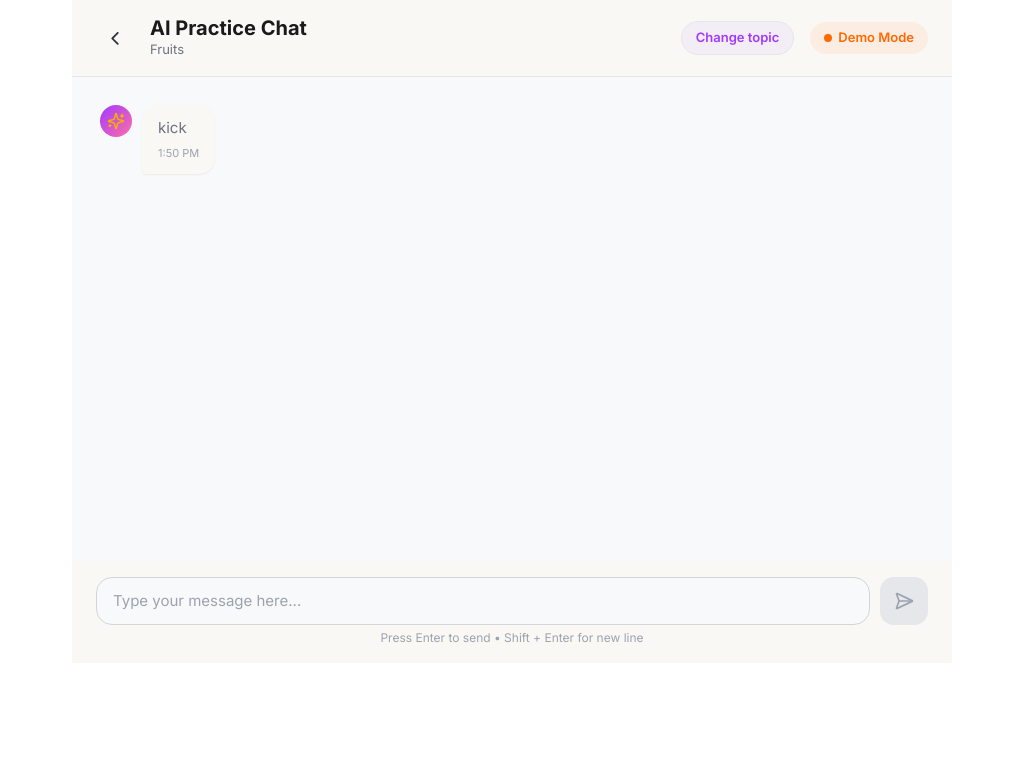
AiChatPage › shows error when the backend fails on a user send
Check: the text "kick" is shown, box [158, 118, 187, 136]
Type "hi" into the text box labelled "message" at (483, 601), box [96, 576, 870, 625]
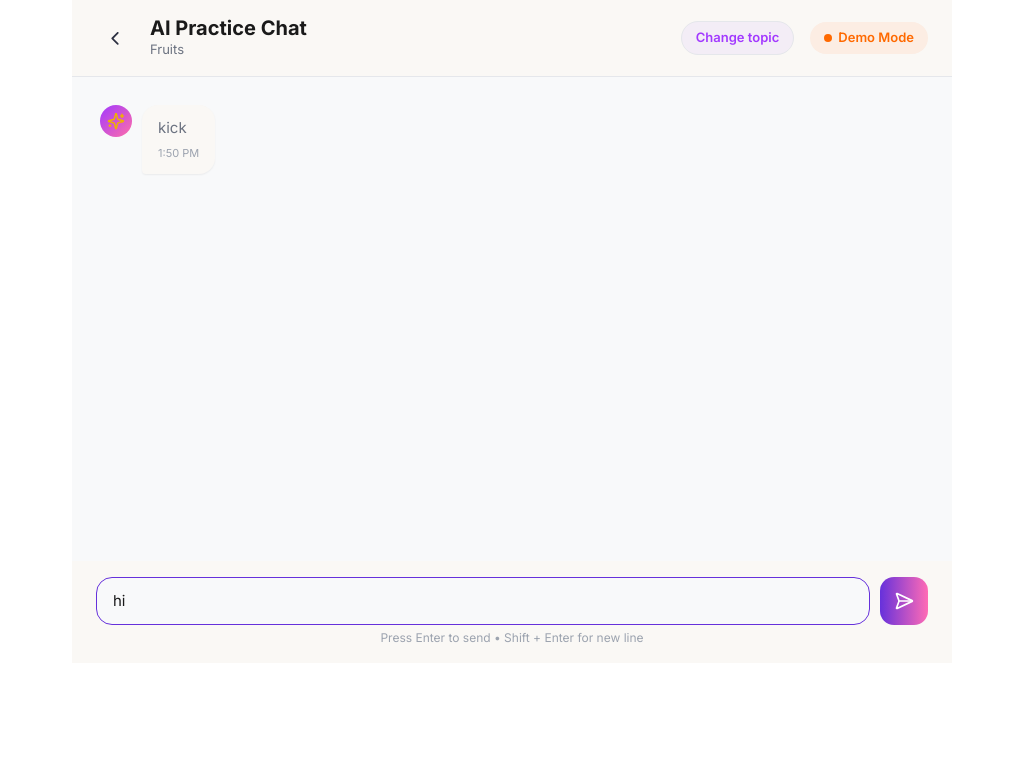
Click the button named "Send message" at (904, 601), box [880, 577, 928, 625]
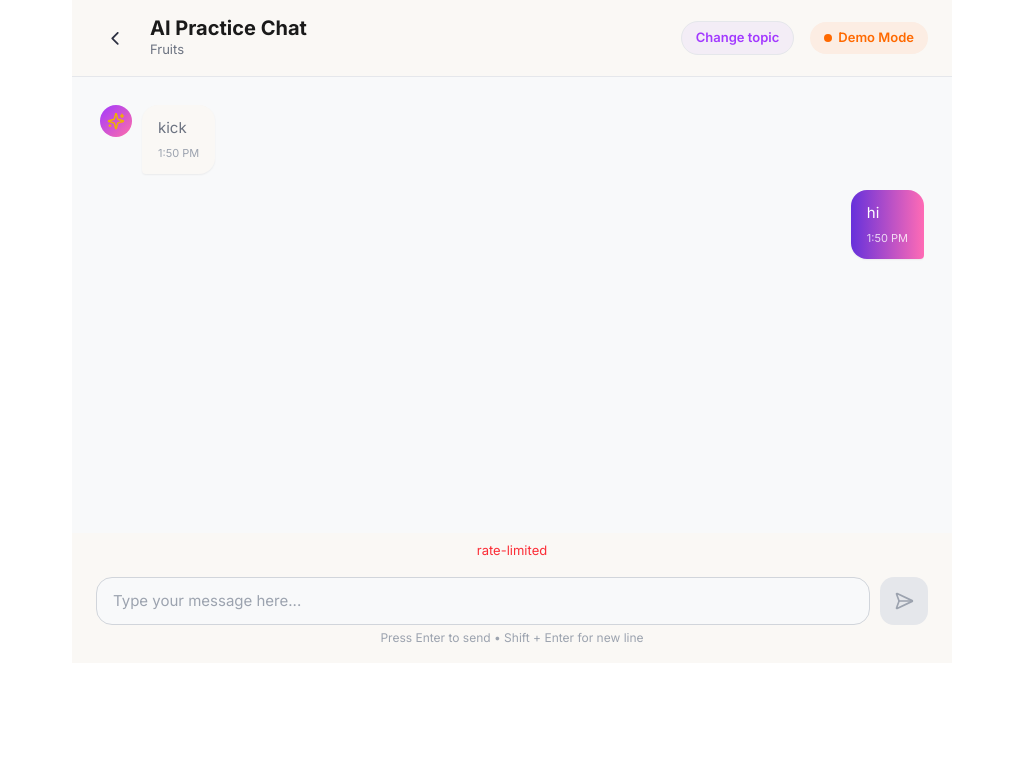
Check: the message reads "rate-limited", box [477, 542, 547, 558]
